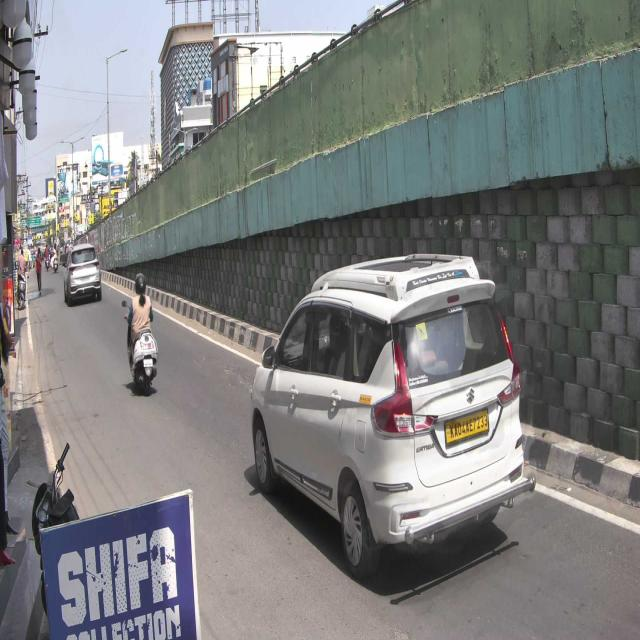single_rider: (122, 271, 159, 395)
